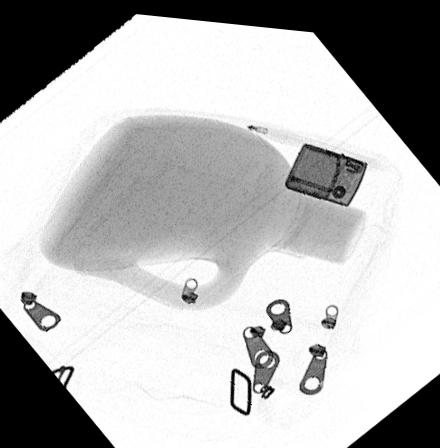Lighter: (283, 136, 367, 198)
